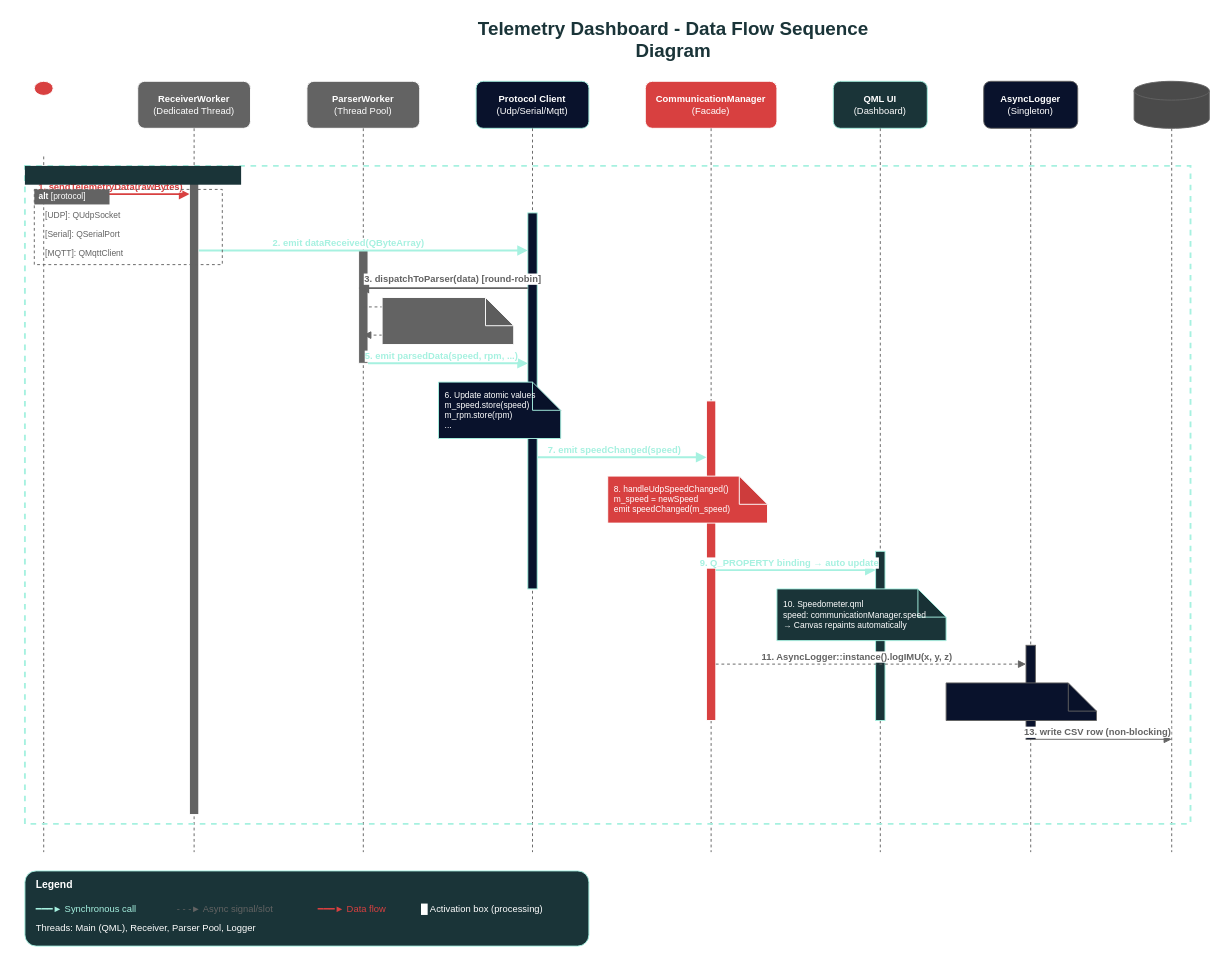
Image size: 1226x963. Some labels were removed from this diagram. The shapes that lost their labels are listed below. From the top down, each one's centre as x and y in pixels, then its label:
At (x=43, y=109): "Vehicle ECU (Hardware)".
At (x=1171, y=104): "CSV Files (logs/)".
At (x=132, y=174): "loop [continuous telemetry stream]".
At (x=447, y=321): "4. parseData() - Decode CAN frames - Extract telemetry values".
At (x=1021, y=701): "12. emit logEntryReady(entry) [Qt::QueuedConnection]".
